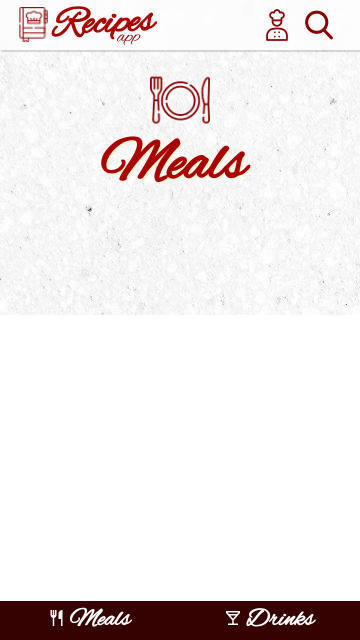
Test case: 8 - Redirecione a pessoa usuária para a tela de perfil ao clicar no botão de perfil › A mudança de tela ocorre corretamente
This screenshot has width=360, height=640.
Expected: the heading "Meals" is shown, 100,130 -> 245,202
Click the button with test id "profile-top-btn" at (277, 25), box 256,4 -> 298,46
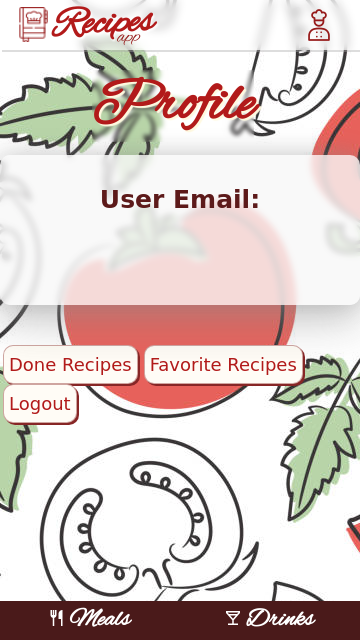
Now the heading "Profile" is shown, box 92,70 -> 254,142
